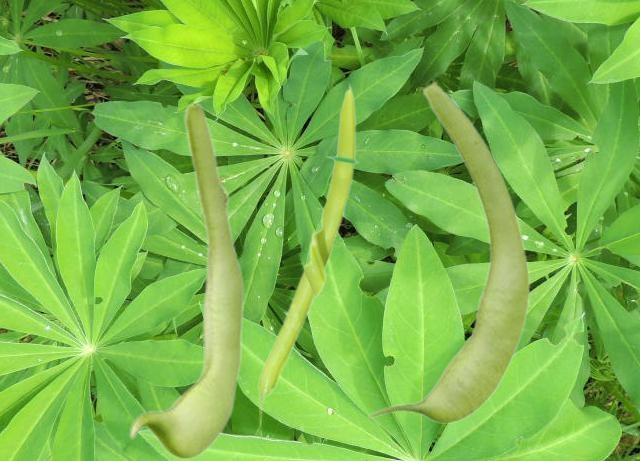french_bean: (366, 79, 530, 422), (128, 101, 243, 458), (253, 81, 359, 438)
